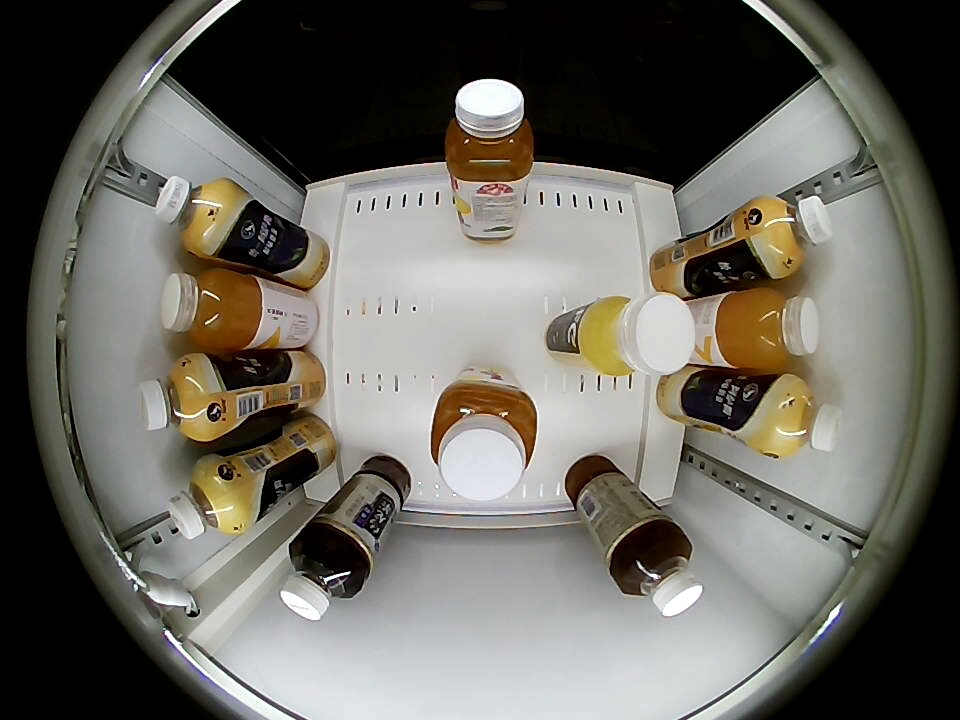asamu: (137, 355, 219, 441), (762, 375, 843, 458), (753, 194, 833, 275), (154, 176, 236, 254), (167, 461, 245, 540)
chapai: (429, 373, 539, 500), (445, 79, 535, 184)
nfc: (584, 293, 695, 377)
weic: (159, 270, 263, 351), (718, 288, 820, 370)
wulongcha: (612, 526, 703, 618), (280, 538, 363, 621)
